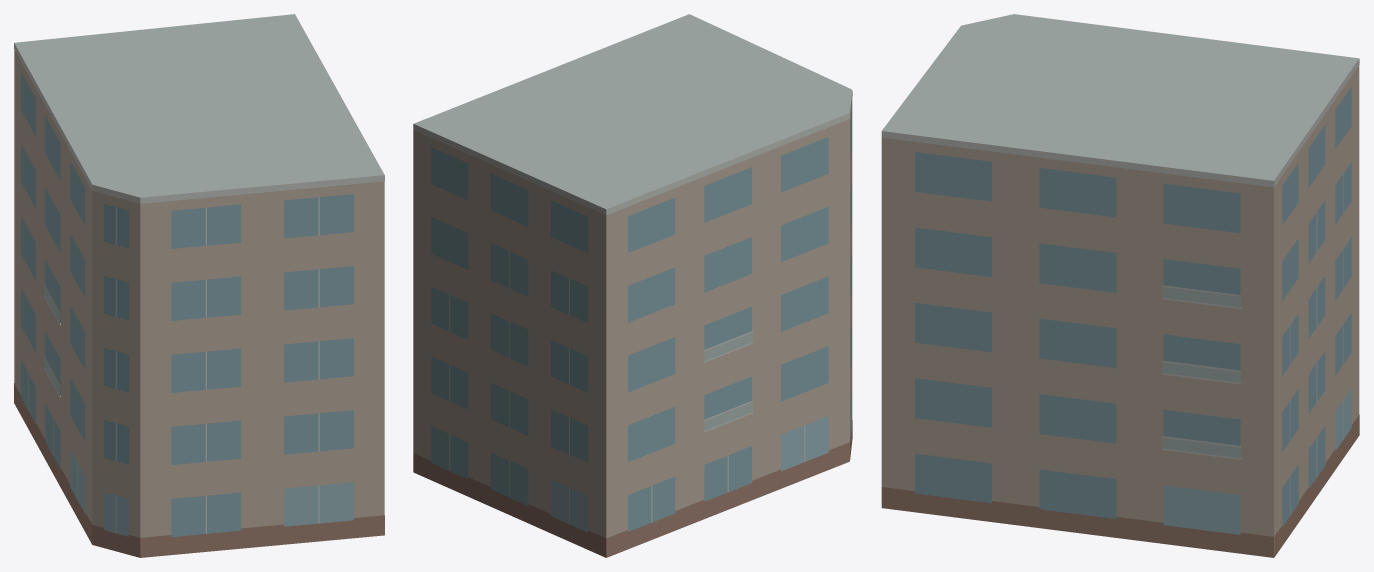
File: survey-upis-32880929.glb
3 views of the same model, side by side, from view 1: azimuth 30°, elevation 25°; view 2: azimuth 150°, elevation 25°; view 3: azimuth 270°, elevation 25° (orthographic). The views are drawn at different scales.
Parts seen in each view (by area): view 1: survey-upis-32880929.tmp; view 2: survey-upis-32880929.tmp; view 3: survey-upis-32880929.tmp.
Boxes of the visible parts, bbox=[...] form: survey-upis-32880929.tmp: bbox=[14, 14, 384, 557]; survey-upis-32880929.tmp: bbox=[413, 14, 852, 557]; survey-upis-32880929.tmp: bbox=[881, 14, 1359, 557].
Bounding box in the file's own units: 13.49 × 14.2 × 16.33.
